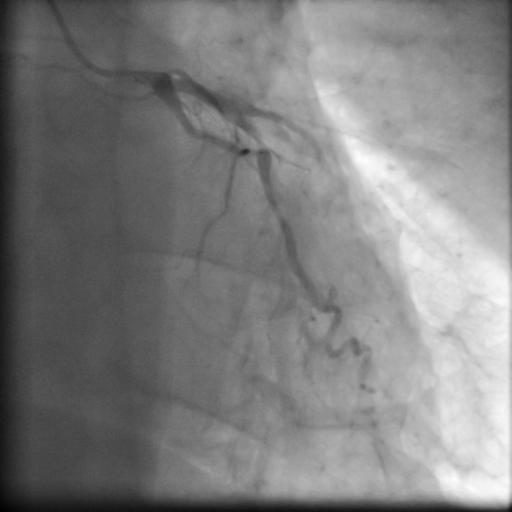Stenosis: (239, 141, 266, 164)
